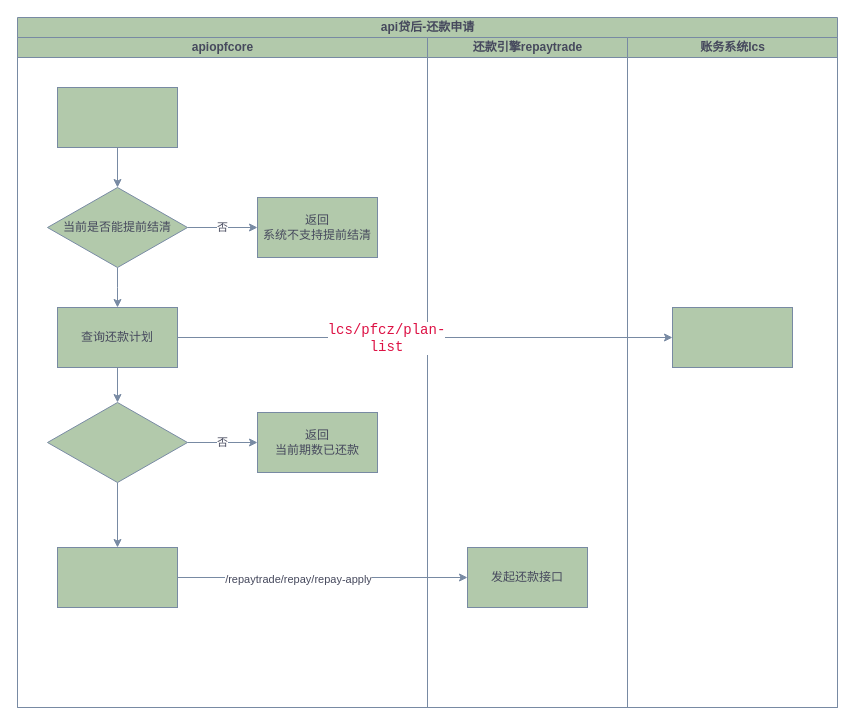
Image size: 855x725. Some labels were removed from this diagram. The shapes that lost their labels are listed below. From the top down, each one's centre as x and y in pixels, then its label:
At [117,117]: "还款申请接口".
At [732,337]: "查询还款计划列表接口".
At [117,442]: "当前是否有要还款的账单".
At [117,577]: "还款申请".
